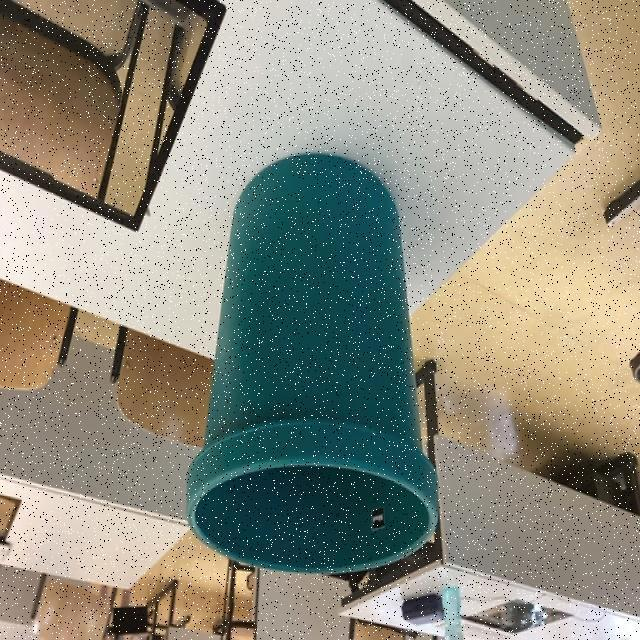garbage container: (180, 143, 454, 589)
